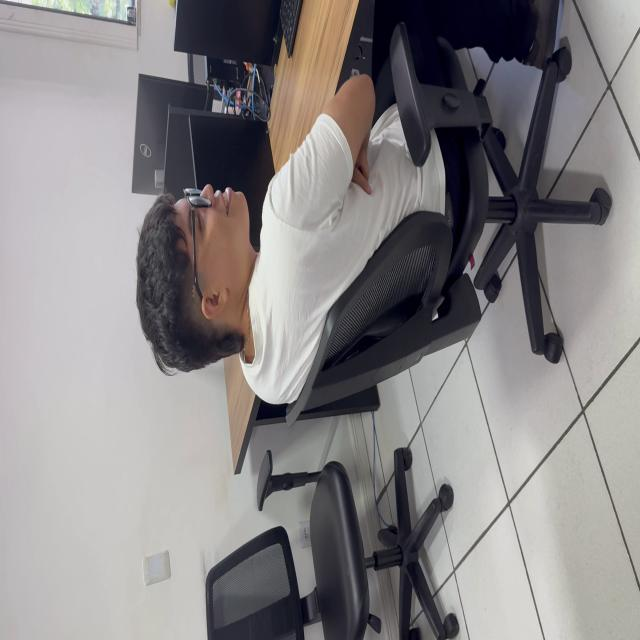sentado: (137, 18, 548, 423)
